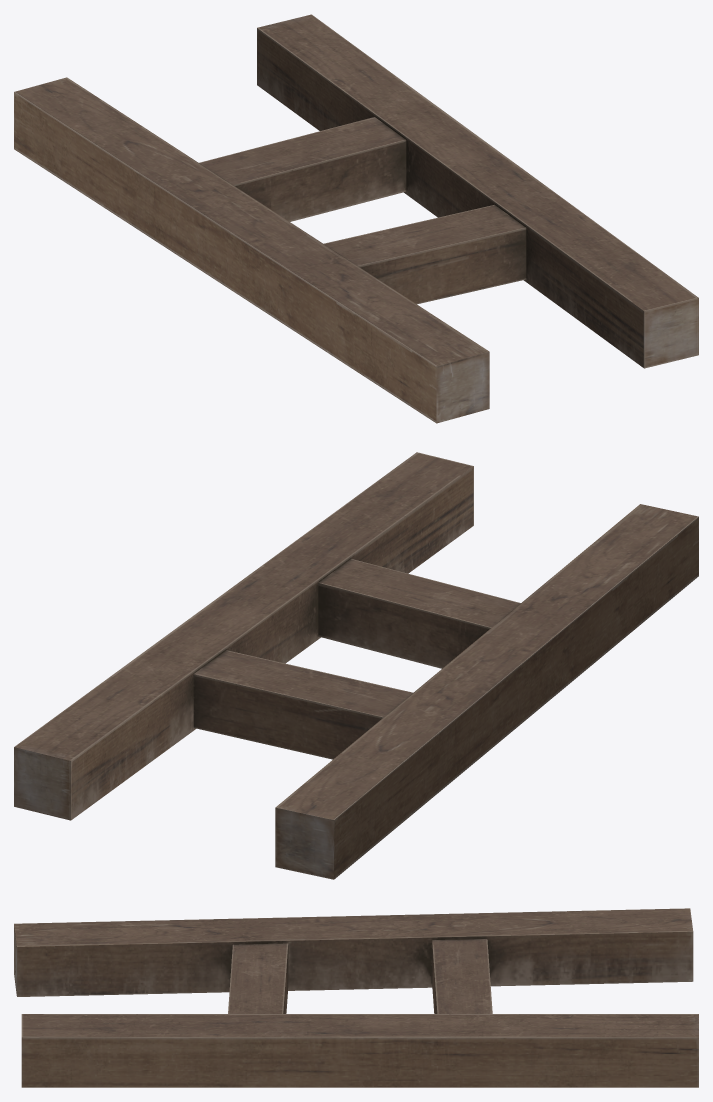
Rendered from SM_Seive_Support.fbx.
The picture shows the model from 3 angles, top to bottom: view 1: azimuth 30°, elevation 25°; view 2: azimuth 150°, elevation 25°; view 3: azimuth 270°, elevation 25°; orthographic projection. The views are drawn at different scales.
Visible parts, largest first — view 1: SM_Seive_Support; view 2: SM_Seive_Support; view 3: SM_Seive_Support.
Boxes of the visible parts, bbox=[...] form: SM_Seive_Support: bbox=[14, 14, 698, 423]; SM_Seive_Support: bbox=[14, 452, 698, 879]; SM_Seive_Support: bbox=[14, 908, 698, 1087].
Bounding box in the file's own units: 0.1105 × 0.02 × 0.2478.
